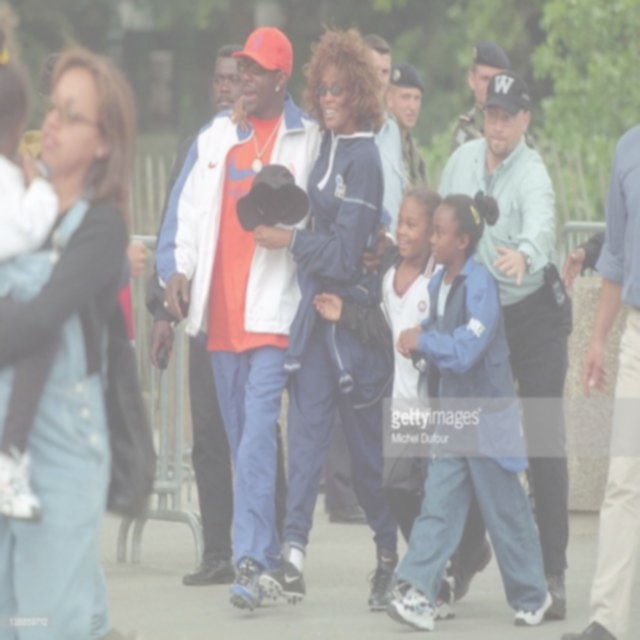pessoa: (156, 22, 327, 612), (244, 18, 403, 616), (11, 49, 150, 639), (382, 180, 560, 636), (144, 41, 288, 588), (437, 70, 572, 618), (310, 186, 448, 614), (556, 116, 640, 639), (0, 44, 67, 530), (360, 31, 410, 278), (371, 59, 433, 244), (448, 35, 510, 158), (105, 234, 147, 350), (558, 223, 610, 287)
